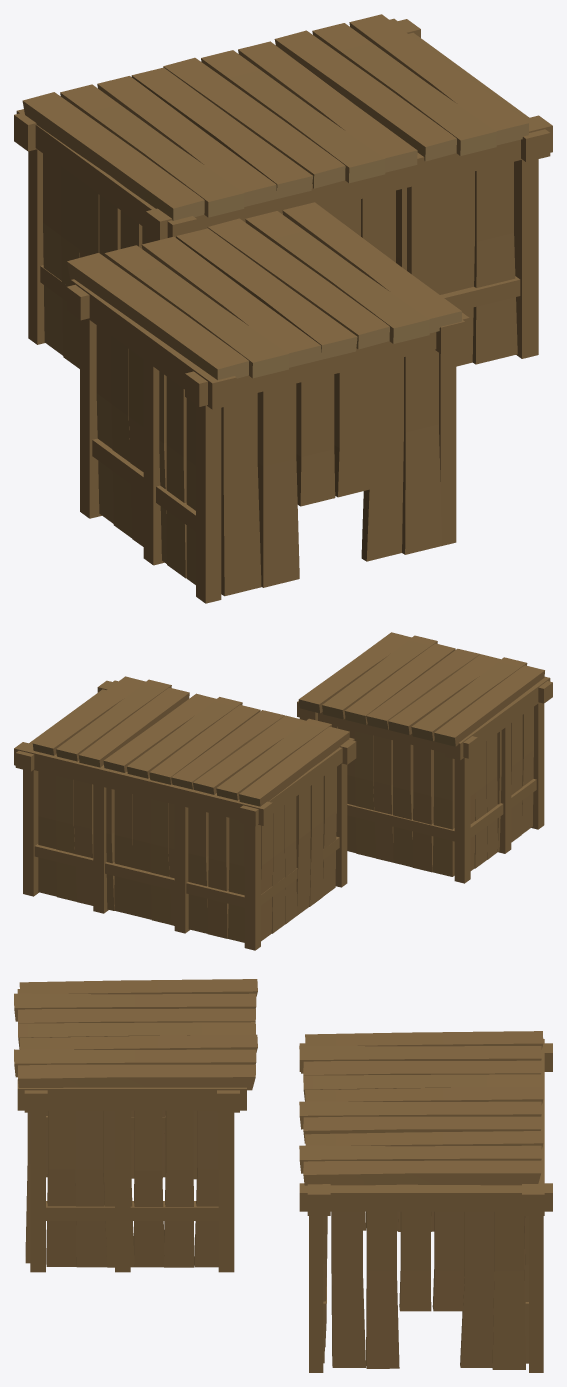
The model's file is Huts.glb.
3 renders of one model, top to bottom at view 1: azimuth 30°, elevation 25°; view 2: azimuth 150°, elevation 25°; view 3: azimuth 270°, elevation 25°, orthographic. The views are drawn at different scales.
Visible parts, largest first — view 1: Houses_FirstAge_3_Level3; view 2: Houses_FirstAge_3_Level3; view 3: Houses_FirstAge_3_Level3.
Part boxes in pixels (x1,y1,x2,y2): Houses_FirstAge_3_Level3: (14, 14, 552, 603); Houses_FirstAge_3_Level3: (14, 632, 552, 950); Houses_FirstAge_3_Level3: (14, 979, 552, 1372).
Bounding box in the file's own units: 1.32 × 0.5741 × 1.44.
